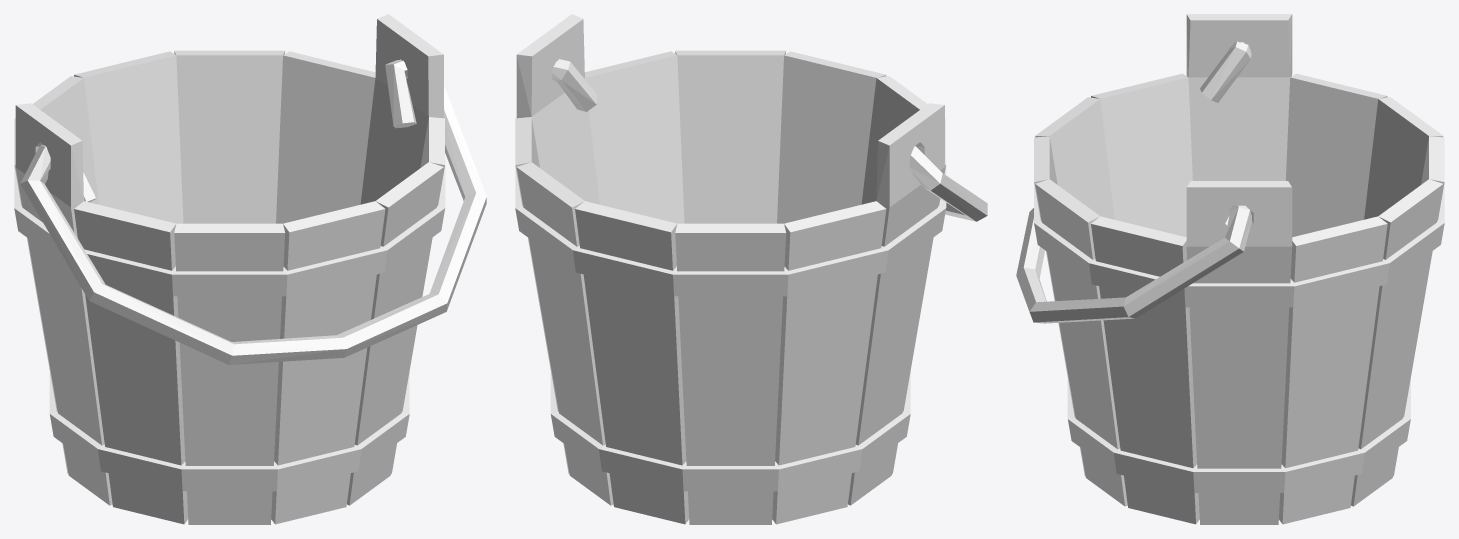
The model's file is Prop_Bucket_01.glb.
3 views of the same model, side by side, from view 1: azimuth 30°, elevation 25°; view 2: azimuth 150°, elevation 25°; view 3: azimuth 270°, elevation 25° (orthographic). The views are drawn at different scales.
Visible parts, largest first — view 1: Prop_Bucket_01, Prop_Bucket_Handle_01; view 2: Prop_Bucket_01, Prop_Bucket_Handle_01; view 3: Prop_Bucket_01, Prop_Bucket_Handle_01.
Part boxes in pixels (left/top/right/bottom): Prop_Bucket_01: left=14, top=14, right=445, bottom=524; Prop_Bucket_Handle_01: left=20, top=59, right=486, bottom=364; Prop_Bucket_01: left=515, top=14, right=946, bottom=524; Prop_Bucket_Handle_01: left=551, top=59, right=987, bottom=221; Prop_Bucket_01: left=1034, top=14, right=1444, bottom=524; Prop_Bucket_Handle_01: left=1016, top=41, right=1251, bottom=323.
Size of the model in its own units: 0.4667 by 0.4008 by 0.4337.
Materials: 1 (1 with a texture image).
